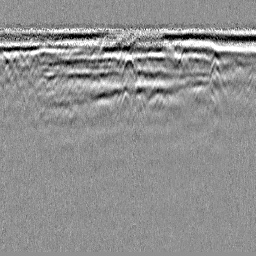cavity: (120, 54, 136, 79)
